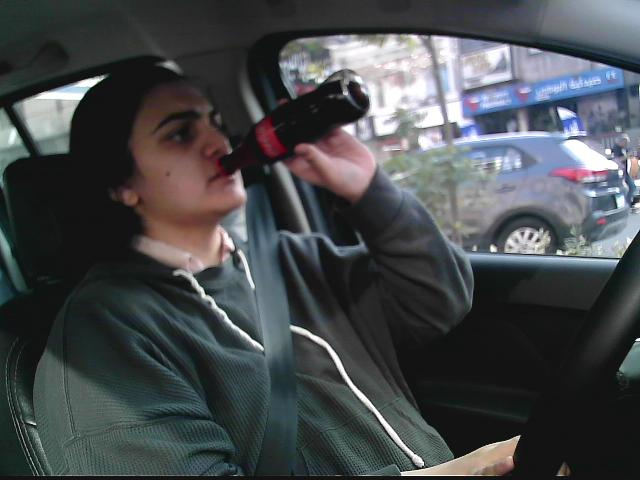Drinking: (114, 63, 367, 218)
